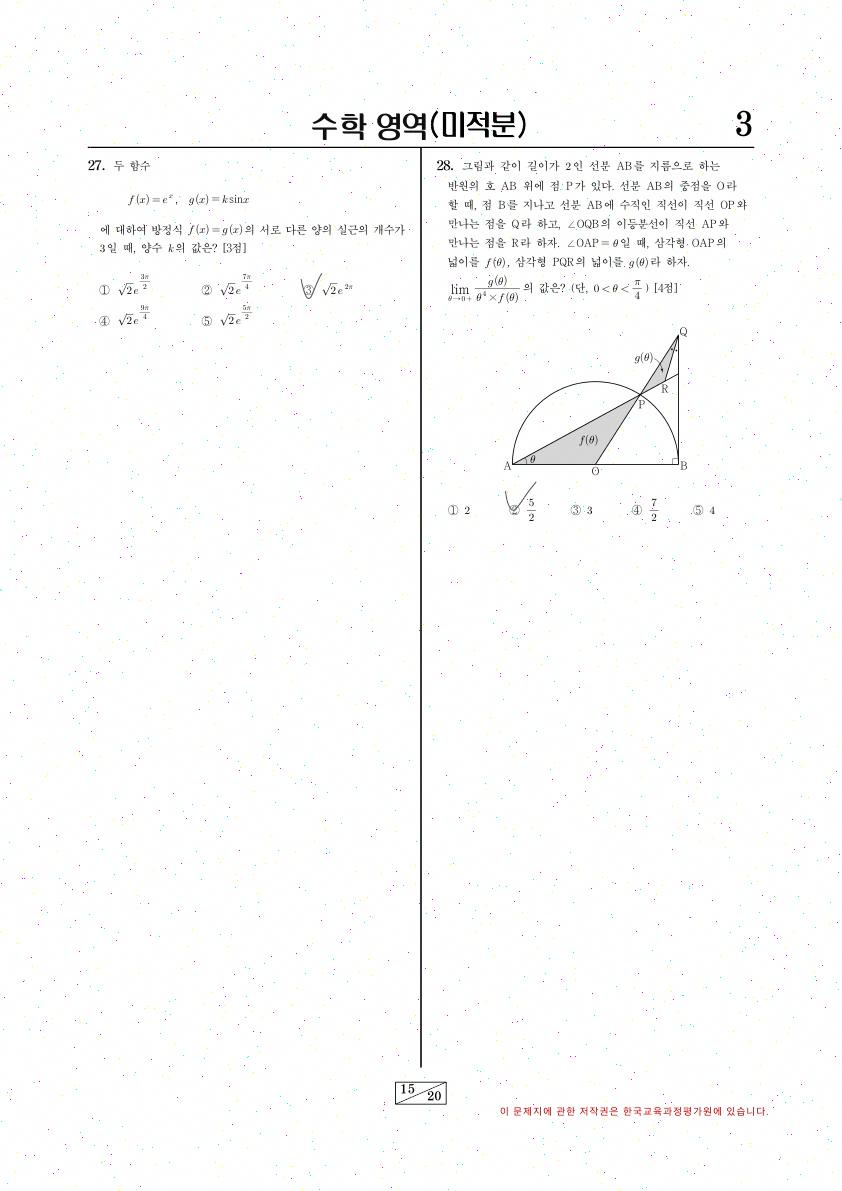question: (422, 148, 758, 539), (72, 149, 419, 341)
